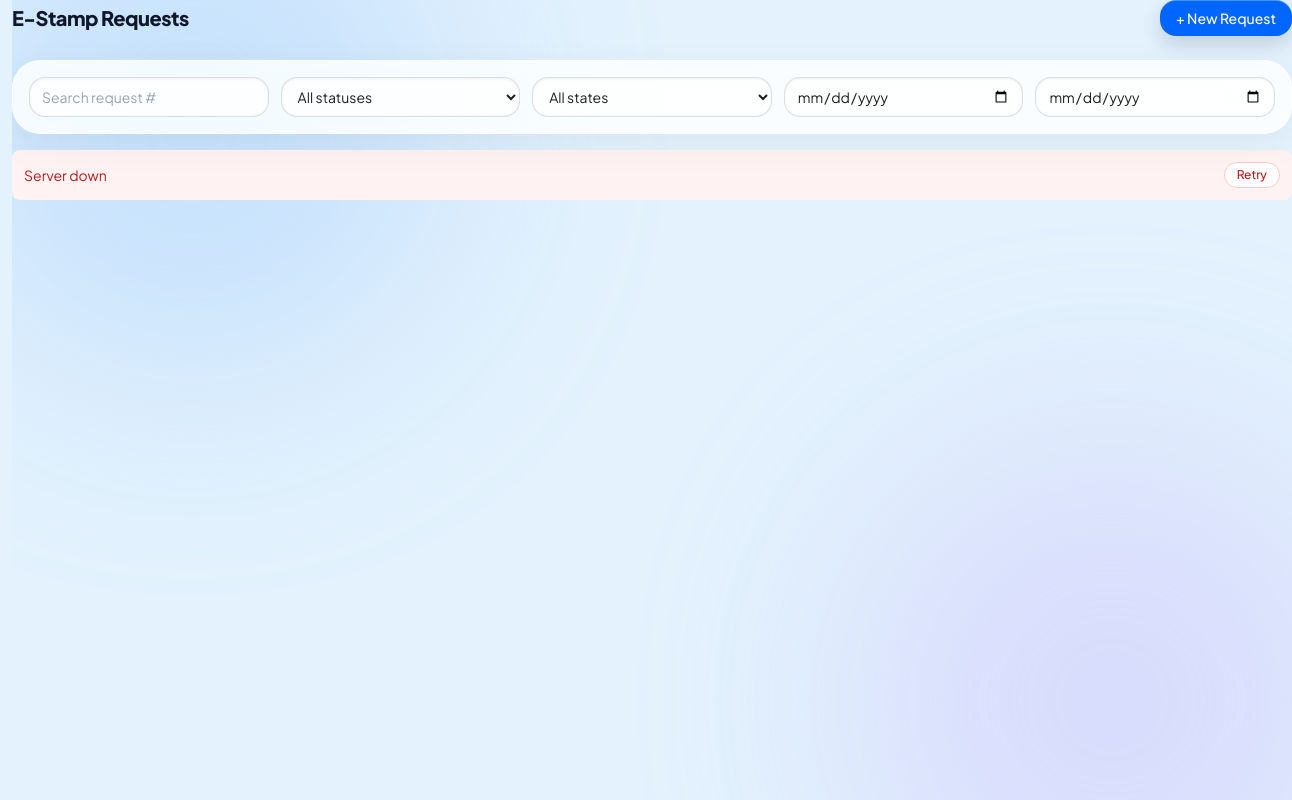
Test: RequestsListPage - search debounce and retry (Phase 2) › shows the error with a Retry button that reloads
Expected: the text "Server down" is shown, [24,165,107,185]
Click the button "Retry".
click(1252, 175)  # box [1224,162,1280,188]
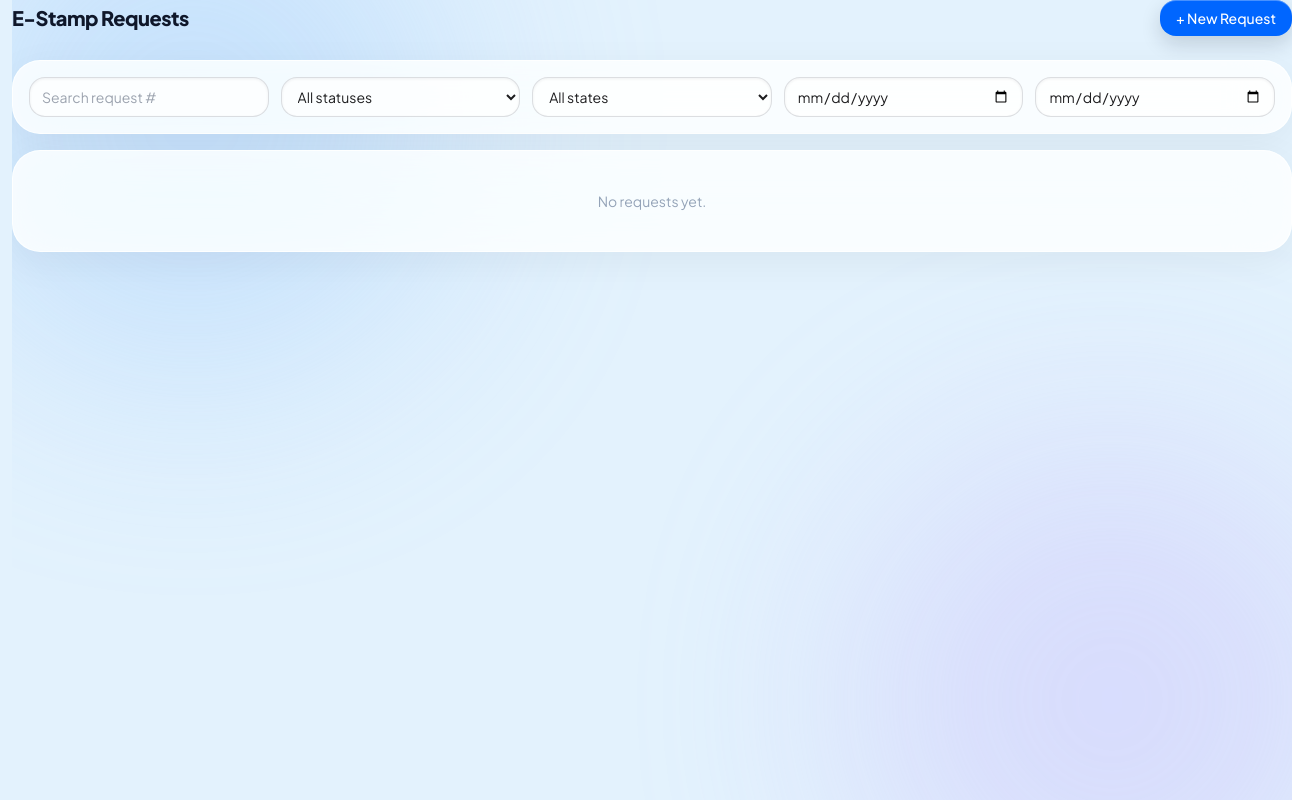
Result: the text "No requests yet." is shown at [598,192,706,210]
